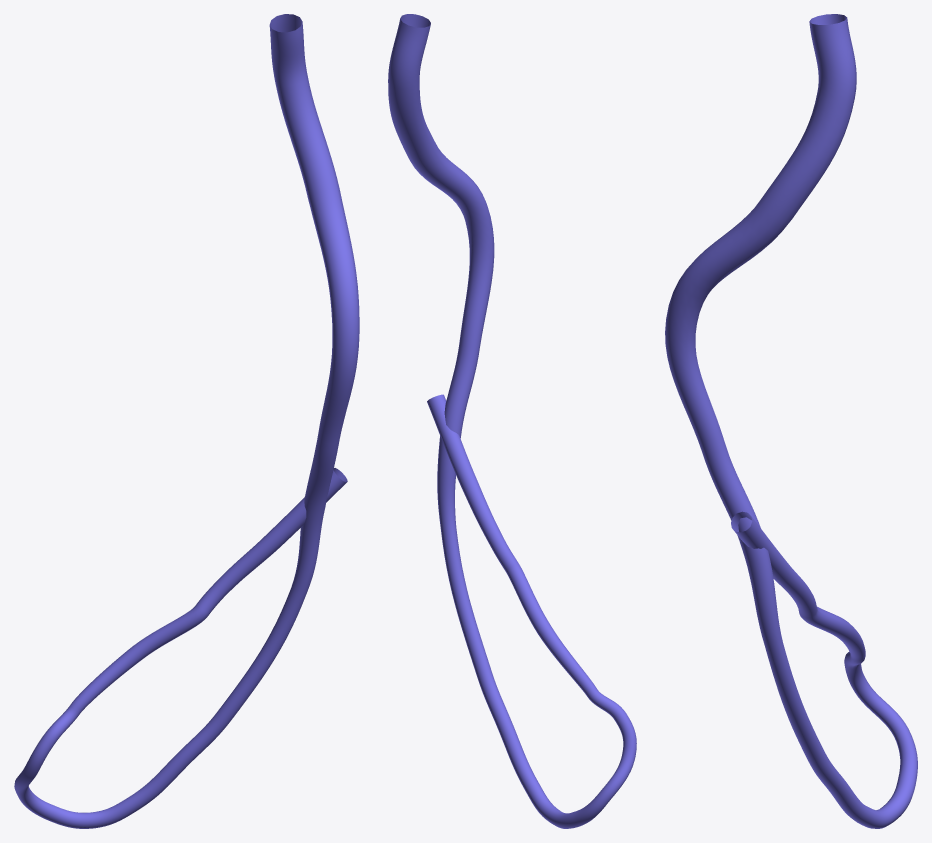
File: Superior_mesenteric_vein.glb
The picture shows the model from 3 angles, left to right: view 1: azimuth 30°, elevation 25°; view 2: azimuth 150°, elevation 25°; view 3: azimuth 270°, elevation 25°; orthographic projection. The views are drawn at different scales.
Parts seen in each view (by area): view 1: Superior_mesenteric_vein_BezierCurve.392; view 2: Superior_mesenteric_vein_BezierCurve.392; view 3: Superior_mesenteric_vein_BezierCurve.392.
Part boxes in pixels (left/top/right/bottom): Superior_mesenteric_vein_BezierCurve.392: left=14, top=14, right=359, bottom=828; Superior_mesenteric_vein_BezierCurve.392: left=388, top=14, right=636, bottom=828; Superior_mesenteric_vein_BezierCurve.392: left=665, top=14, right=917, bottom=828.
Bounding box in the file's own units: 0.0578 × 0.1569 × 0.0398.
